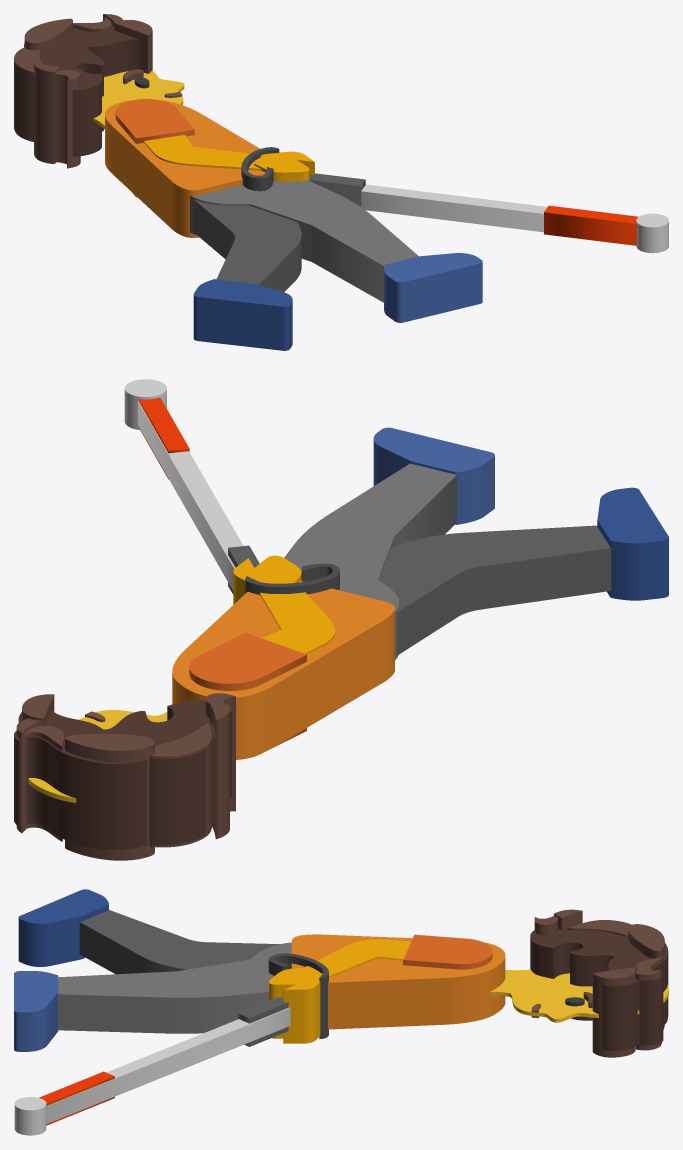
The model's file is emoji_u1f9d1_200d_1f9af_200d_27a1.glb.
3 views of the same model, one above another, from view 1: azimuth 30°, elevation 25°; view 2: azimuth 150°, elevation 25°; view 3: azimuth 270°, elevation 25° (orthographic). The views are drawn at different scales.
Parts seen in each view (by area): view 1: emoji_u1f9d1_200d_1f9af_200d_27a1; view 2: emoji_u1f9d1_200d_1f9af_200d_27a1; view 3: emoji_u1f9d1_200d_1f9af_200d_27a1.
Part boxes in pixels (box(x1,y1,x2,y2)): emoji_u1f9d1_200d_1f9af_200d_27a1: box(14, 14, 668, 350); emoji_u1f9d1_200d_1f9af_200d_27a1: box(14, 379, 668, 860); emoji_u1f9d1_200d_1f9af_200d_27a1: box(14, 889, 668, 1135).
Size of the model in its own units: 0.0253 by 0.005 by 0.033.
